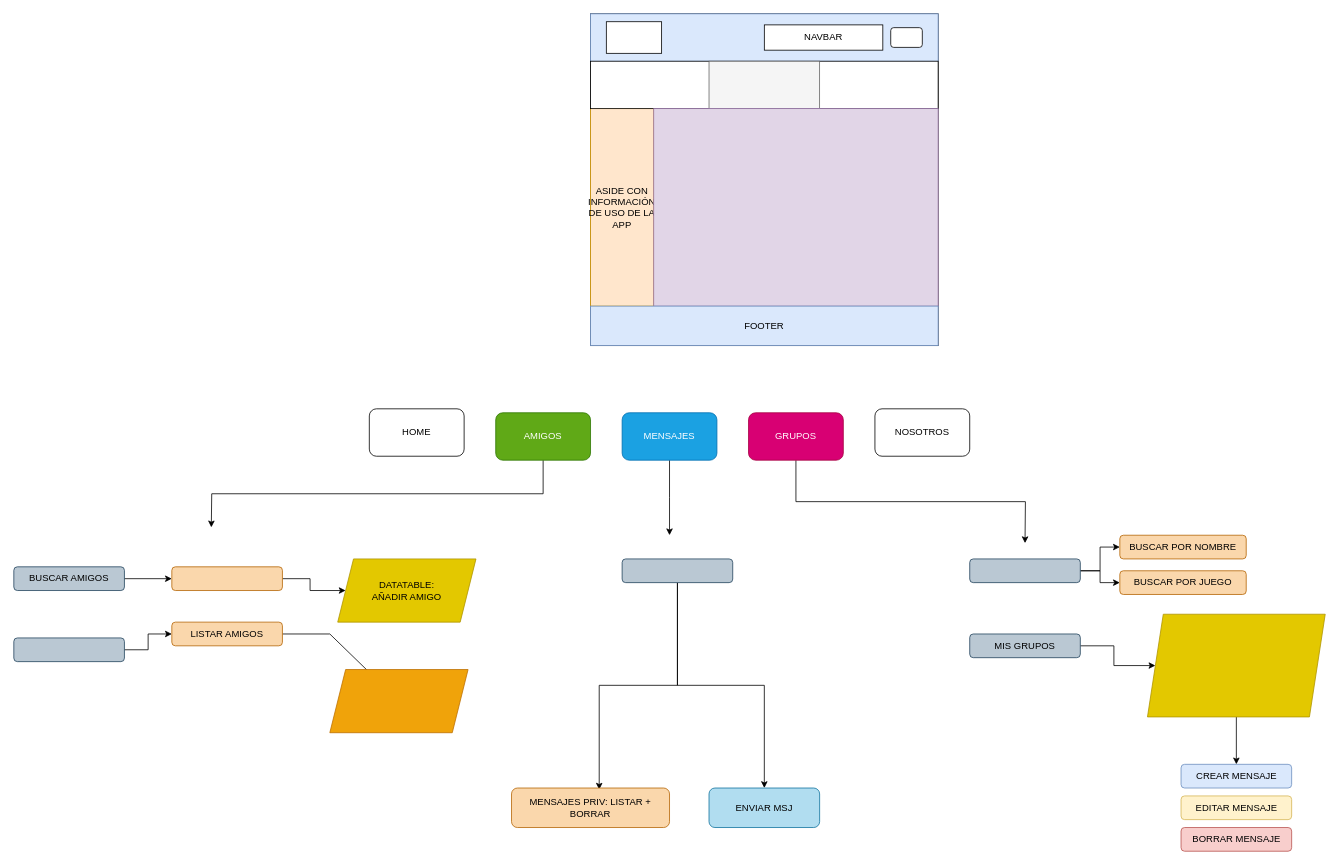
This 1339x865 diagram has some shape labels left out. The box of each missing label's shape, as (x1, y1, x2, y2) in pixels:
BUSCAR GRUPOS: (969, 558, 1080, 583)
CONTENT: (653, 108, 938, 306)
DATATABLE: 1. CREAR GRUPO 2. BORRAR GRUPO 3. ENTRAR A GRUPO: (1147, 613, 1325, 717)
DATATABLE: BORRAR AMIGO: (329, 669, 468, 733)
LISTAR USUARIOS: (171, 566, 282, 591)
LOG: (890, 27, 922, 47)
LOGO: (606, 21, 662, 53)
MENSAJES PRIV.: (621, 558, 733, 583)
MIS AMIGOS: (13, 637, 124, 662)
TITULO MODULO TITULO COMPONENT: (708, 60, 820, 109)
